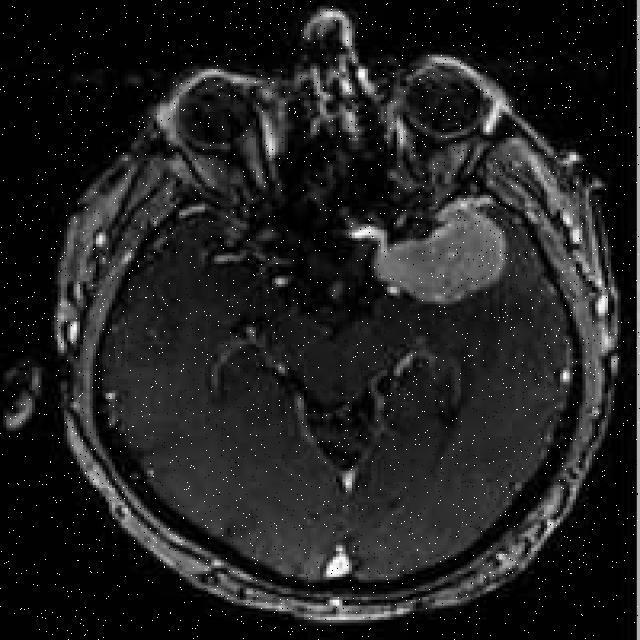Meningioma: (375, 198, 505, 302)
